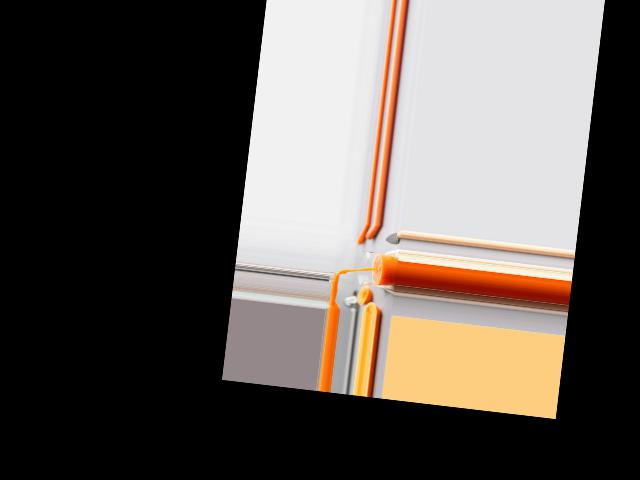carrot: (357, 223, 383, 248)
